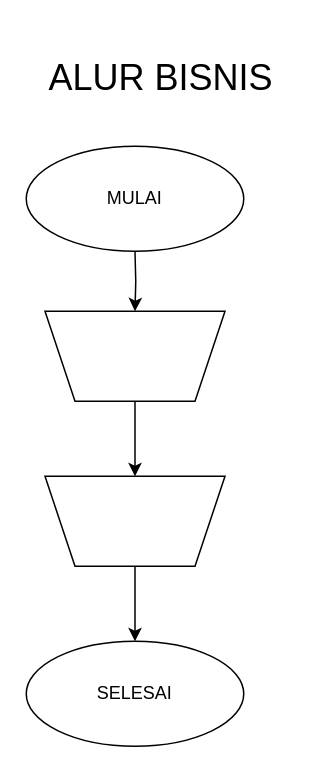
Some shapes in this 315 by 773 pixel diagram are drawn without their labels. The shapes that lost their labels are listed below. From the top down, each one's centre as x and y in pixels, then its label:
At point 134,355: "PENGISIAN NOMINAL".
At point 134,520: "REKAP".
